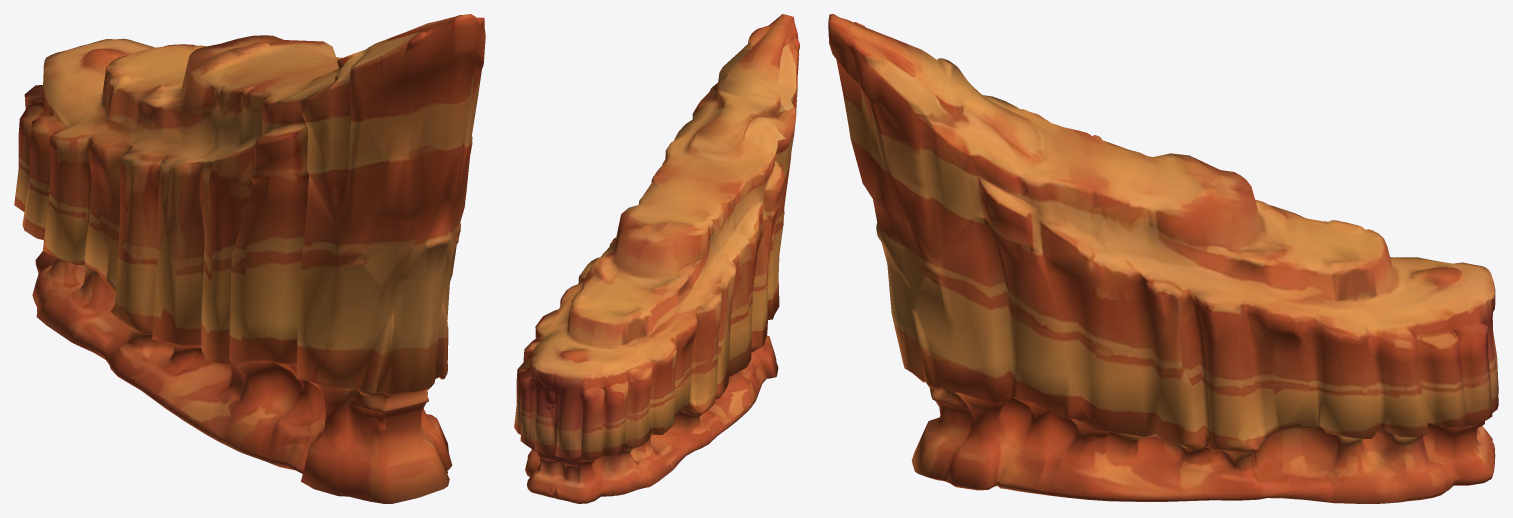
File: SM_Tripo_DesertYardangFleet.glb
3 views of the same model, side by side, from view 1: azimuth 30°, elevation 25°; view 2: azimuth 150°, elevation 25°; view 3: azimuth 270°, elevation 25° (orthographic). The views are drawn at different scales.
Visible parts, largest first — view 1: SM_Tripo_DesertYardangFleet_LOD0; view 2: SM_Tripo_DesertYardangFleet_LOD0; view 3: SM_Tripo_DesertYardangFleet_LOD0.
Part boxes in pixels (left/top/right/bottom): SM_Tripo_DesertYardangFleet_LOD0: left=14, top=14, right=485, bottom=503; SM_Tripo_DesertYardangFleet_LOD0: left=514, top=14, right=799, bottom=503; SM_Tripo_DesertYardangFleet_LOD0: left=828, top=14, right=1498, bottom=503.
Size of what is drawn, in the model's own units: 4.49 by 10 by 13.49.
1 material, 1 textured.
